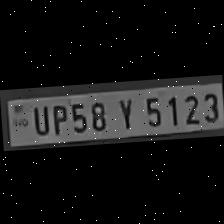1: (162, 91, 180, 125)
2: (179, 90, 199, 124)
3: (198, 88, 218, 122)
5: (137, 92, 163, 128), (66, 98, 86, 132)
8: (86, 96, 108, 132)
P: (47, 100, 67, 134)
U: (28, 102, 48, 134)
Y: (110, 92, 138, 130)
